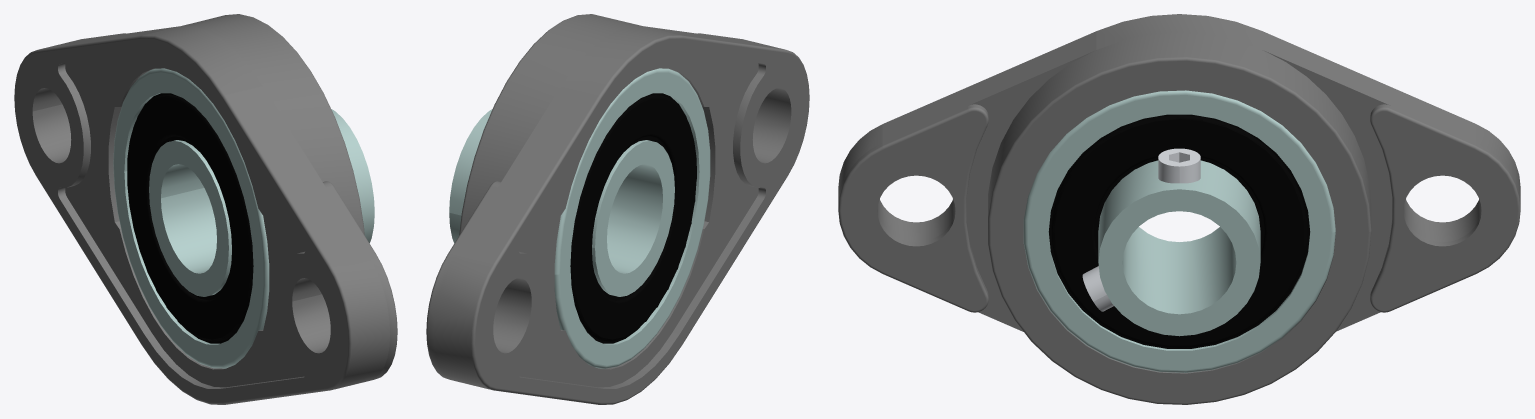
The model's file is assembly.glb.
The picture shows the model from 3 angles, left to right: view 1: azimuth 30°, elevation 25°; view 2: azimuth 150°, elevation 25°; view 3: azimuth 270°, elevation 25°; orthographic projection.
Parts seen in each view (by area): view 1: cad-mesh-034, cad-mesh-029, cad-mesh-031, cad-mesh-030; view 2: cad-mesh-034, cad-mesh-029, cad-mesh-031, cad-mesh-030; view 3: cad-mesh-034, cad-mesh-028, cad-mesh-030, cad-mesh-031, cad-mesh-032, cad-mesh-033.
Boxes of the visible parts, bbox=[...] form: cad-mesh-034: bbox=[14, 14, 397, 404]; cad-mesh-029: bbox=[127, 93, 253, 343]; cad-mesh-031: bbox=[149, 109, 374, 296]; cad-mesh-030: bbox=[113, 68, 269, 368]; cad-mesh-034: bbox=[426, 14, 809, 404]; cad-mesh-029: bbox=[570, 93, 696, 343]; cad-mesh-031: bbox=[449, 109, 674, 296]; cad-mesh-030: bbox=[554, 68, 710, 368]; cad-mesh-034: bbox=[838, 14, 1520, 404]; cad-mesh-028: bbox=[1048, 114, 1310, 348]; cad-mesh-030: bbox=[1023, 90, 1335, 372]; cad-mesh-031: bbox=[1098, 160, 1260, 336]; cad-mesh-032: bbox=[1158, 148, 1200, 183]; cad-mesh-033: bbox=[1082, 266, 1113, 311].
Size of the model in its own units: 0.0126 by 0.027 by 0.048.
